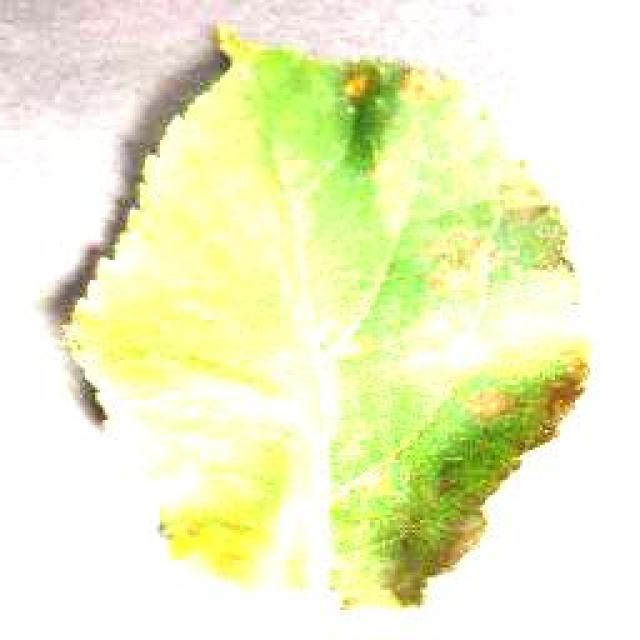apple rust disease: (52, 18, 592, 610)
